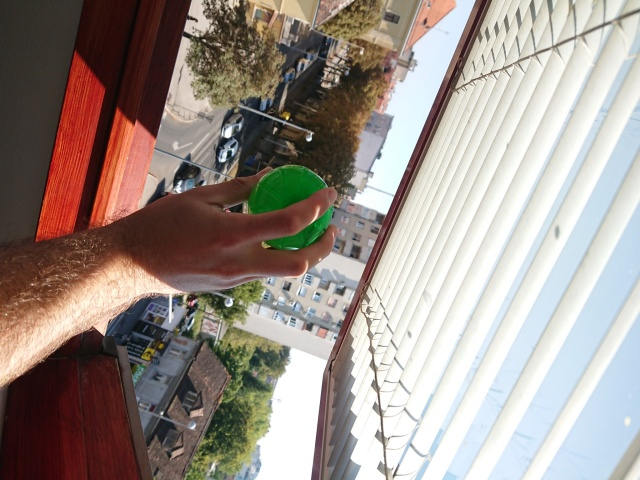Vindi Iso Sport Lemon-Grapefruit 500mL: (245, 162, 337, 255)
